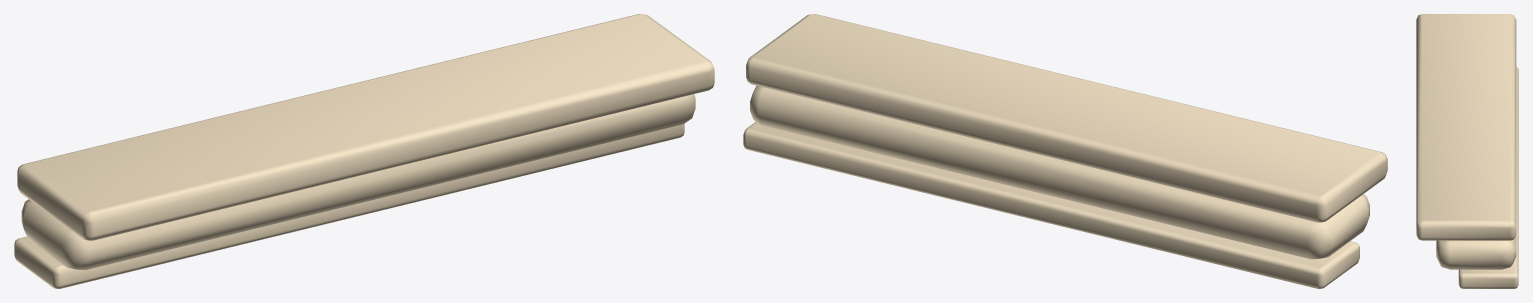
File: Cornice2m.fbx
3 renders of one model, left to right at view 1: azimuth 30°, elevation 25°; view 2: azimuth 150°, elevation 25°; view 3: azimuth 270°, elevation 25°, orthographic. The views are drawn at different scales.
Visible parts, largest first — view 1: Cornice2m_Trim; view 2: Cornice2m_Trim; view 3: Cornice2m_Trim.
Part boxes in pixels (x1,y1,x2,y2): Cornice2m_Trim: (14, 14, 714, 288); Cornice2m_Trim: (743, 14, 1387, 288); Cornice2m_Trim: (1416, 14, 1518, 288).
Size of the model in its own units: 2 by 0.3 by 0.41.
